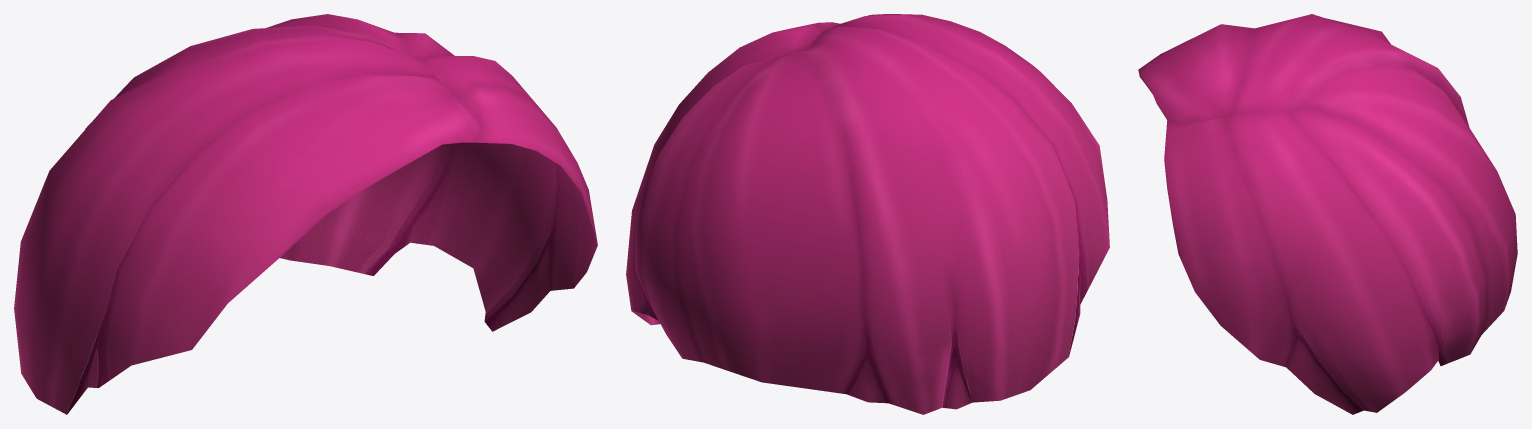
3 views of the same model, side by side, from view 1: azimuth 30°, elevation 25°; view 2: azimuth 150°, elevation 25°; view 3: azimuth 270°, elevation 25° (orthographic). The views are drawn at different scales.
Visible parts, largest first — view 1: Baby_Gril_01_hair_2; view 2: Baby_Gril_01_hair_2; view 3: Baby_Gril_01_hair_2.
Part boxes in pixels (x1,y1,x2,y2): Baby_Gril_01_hair_2: (14, 14, 597, 414); Baby_Gril_01_hair_2: (626, 14, 1109, 414); Baby_Gril_01_hair_2: (1138, 14, 1517, 414).
Size of the model in its own units: 104 by 74.67 by 87.62.
